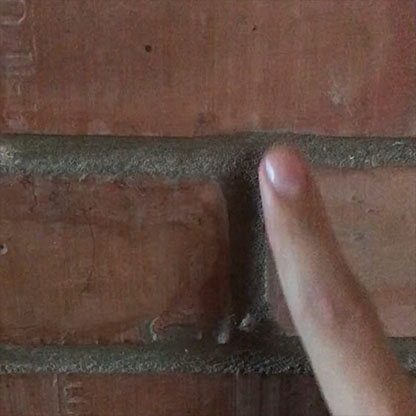fingertip: (243, 136, 336, 211)
